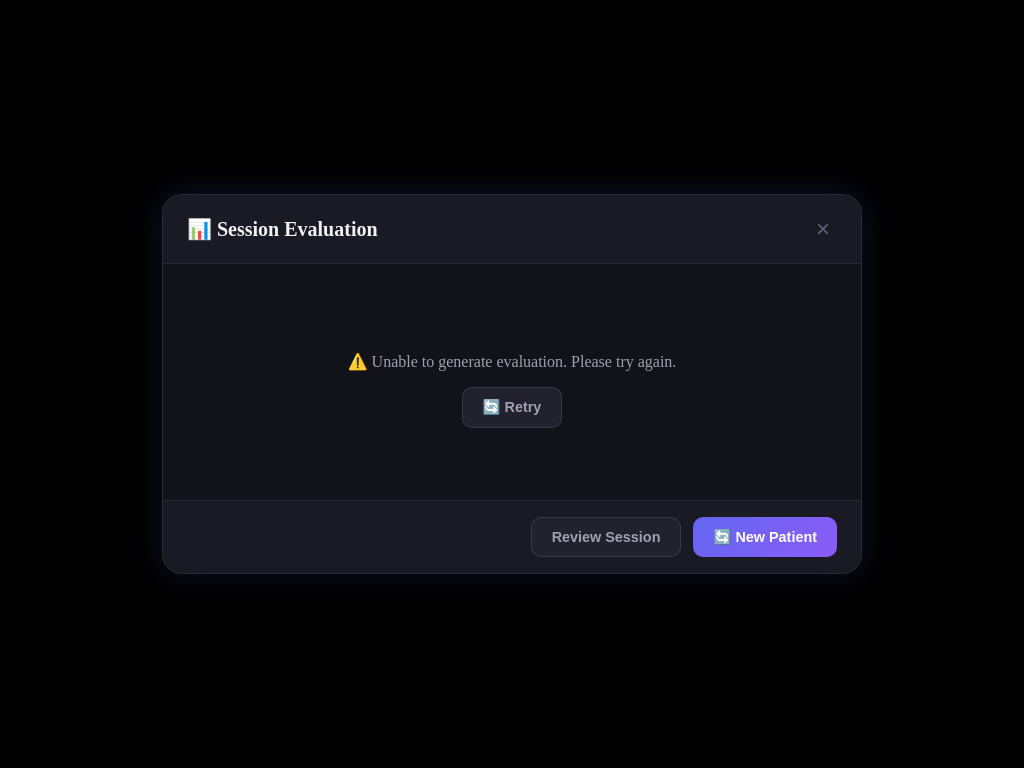
it: SessionEvaluation › retries after an evaluation error and supports sparse feedback without setup
Expected: the text "⚠️ Unable to generate evaluation. Please try again." is shown, [348,352,676,371]
Click the button "🔄 Retry": (512, 407) [462,387,562,428]
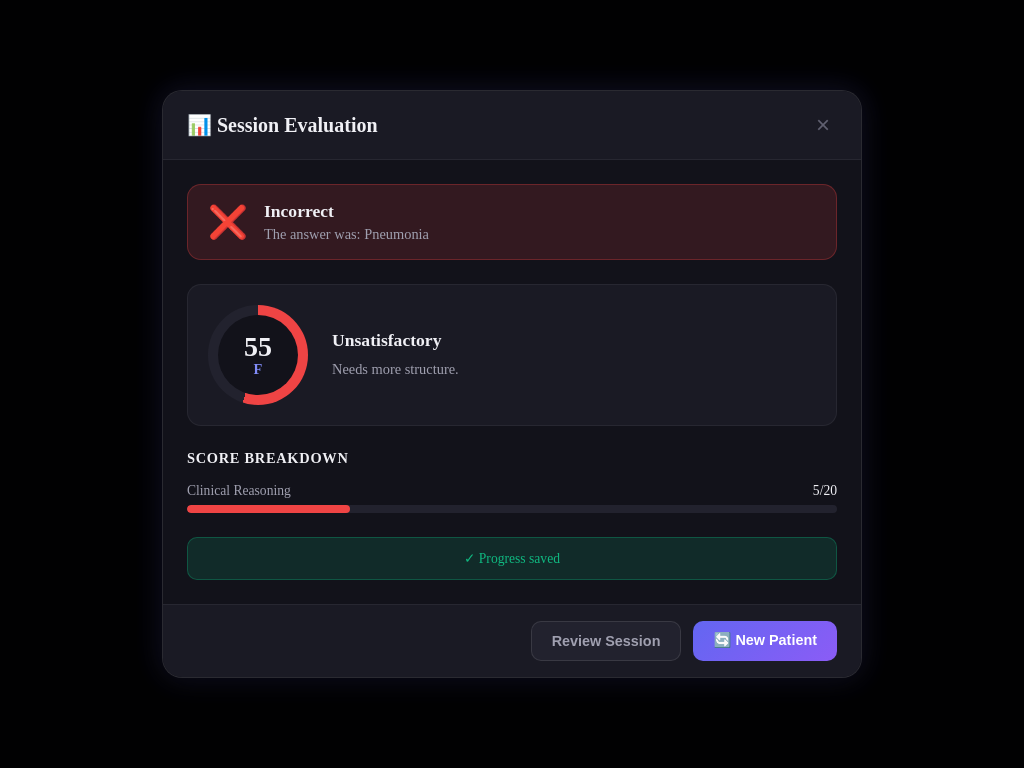
Now the heading "Unsatisfactory" is shown, box [332,330,442,350]
Now the text "Incorrect" is shown, box [264,201,334,221]
